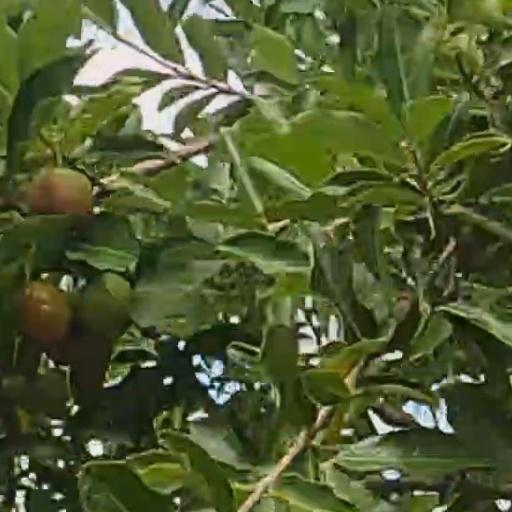acerola: (29, 168, 94, 217), (22, 284, 71, 341)
